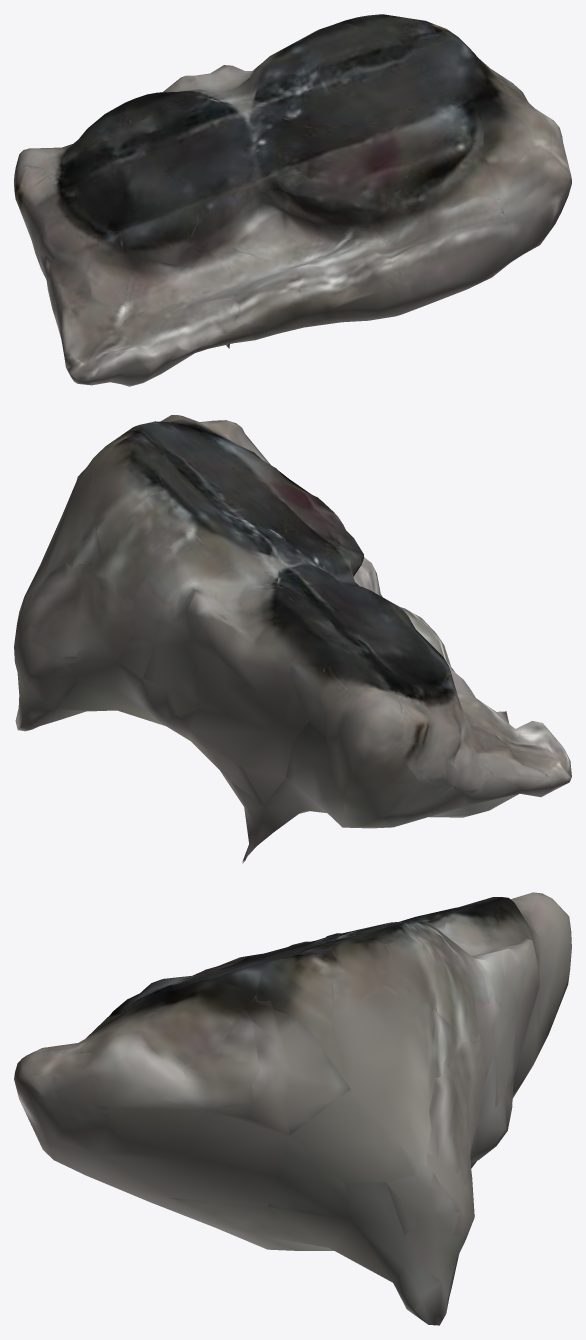
File: hall.glb
The picture shows the model from 3 angles, top to bottom: view 1: azimuth 30°, elevation 25°; view 2: azimuth 150°, elevation 25°; view 3: azimuth 270°, elevation 25°; orthographic projection. The views are drawn at different scales.
Size of the model in its own units: 0.5089 by 0.3494 by 0.4097.
1 material, 1 textured.
